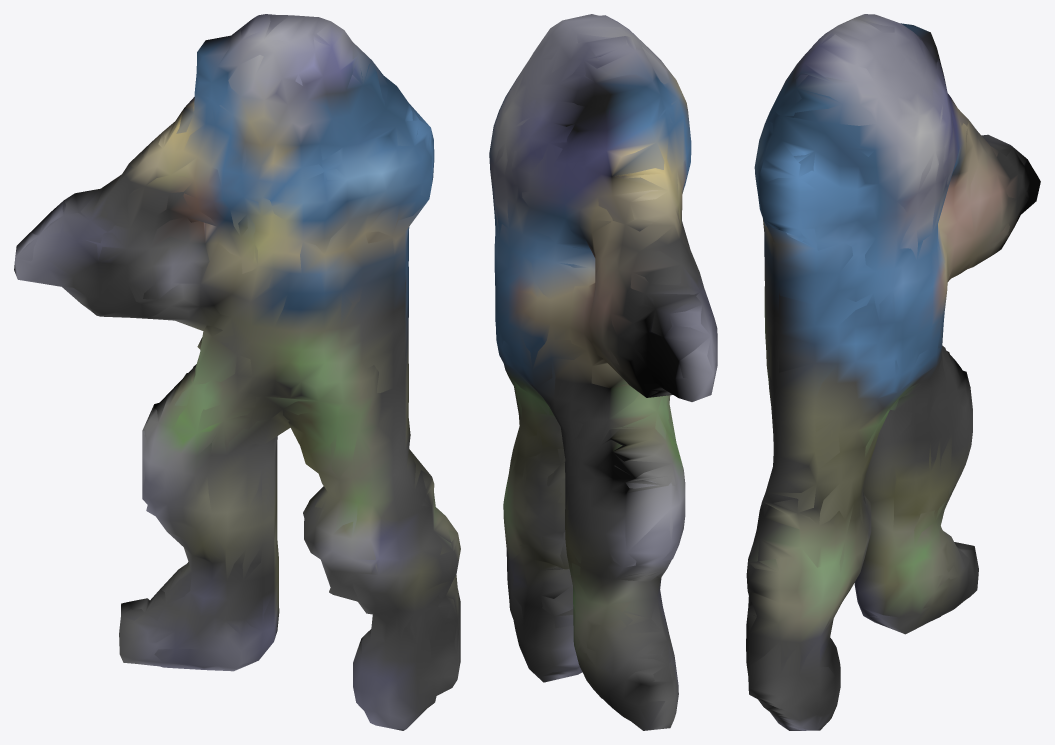
File: allied_infantry.glb
3 renders of one model, left to right at view 1: azimuth 30°, elevation 25°; view 2: azimuth 150°, elevation 25°; view 3: azimuth 270°, elevation 25°, orthographic. The views are drawn at different scales.
Visible parts, largest first — view 1: allied_gi; view 2: allied_gi; view 3: allied_gi.
Part boxes in pixels (bbox=[...]): allied_gi: bbox=[14, 14, 460, 730]; allied_gi: bbox=[489, 14, 717, 730]; allied_gi: bbox=[746, 14, 1040, 730].
Size of the model in its own units: 1.08 by 2.23 by 0.8903.
